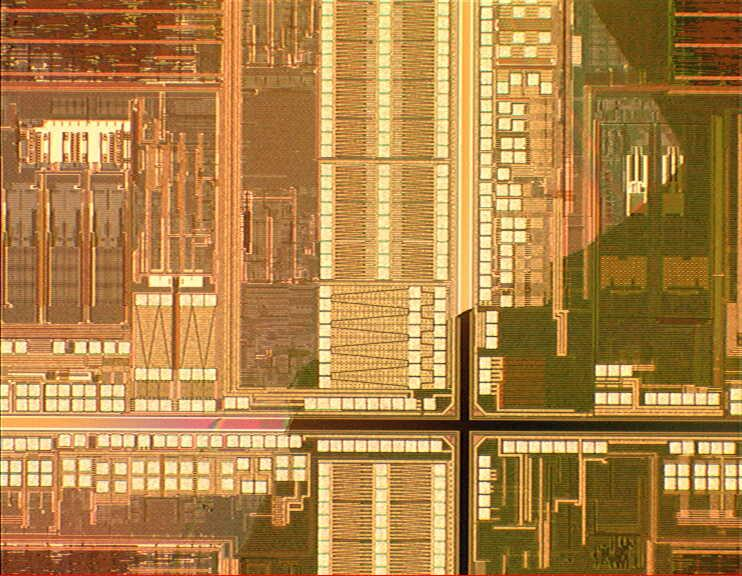COATING BAD: (1, 1, 693, 576)
